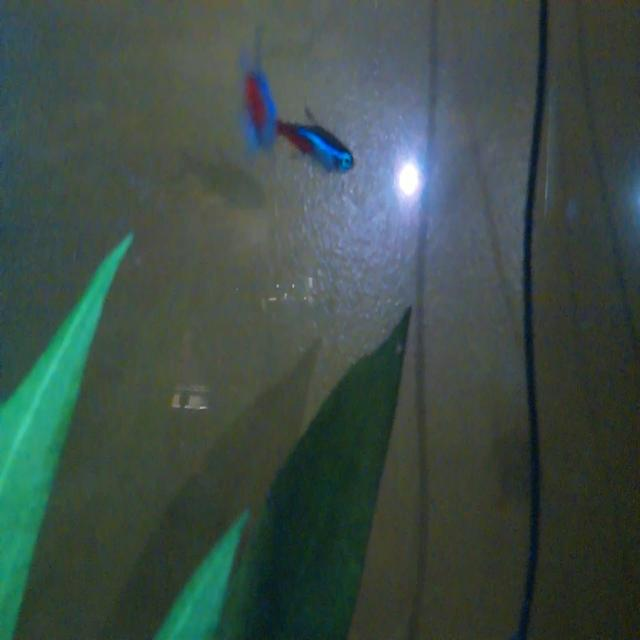fish: (275, 92, 365, 194)
